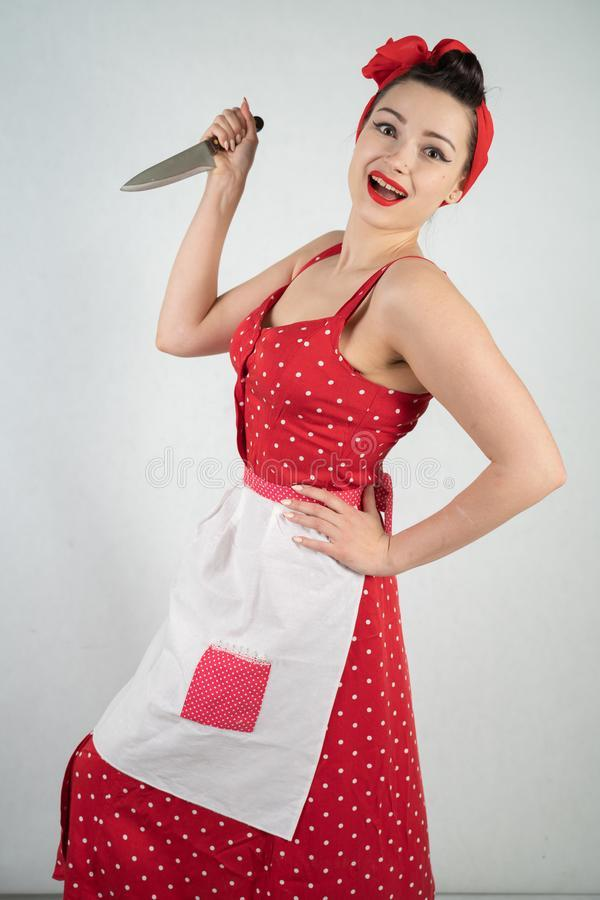criminal: (51, 32, 570, 900)
weapon: (117, 112, 266, 196)
